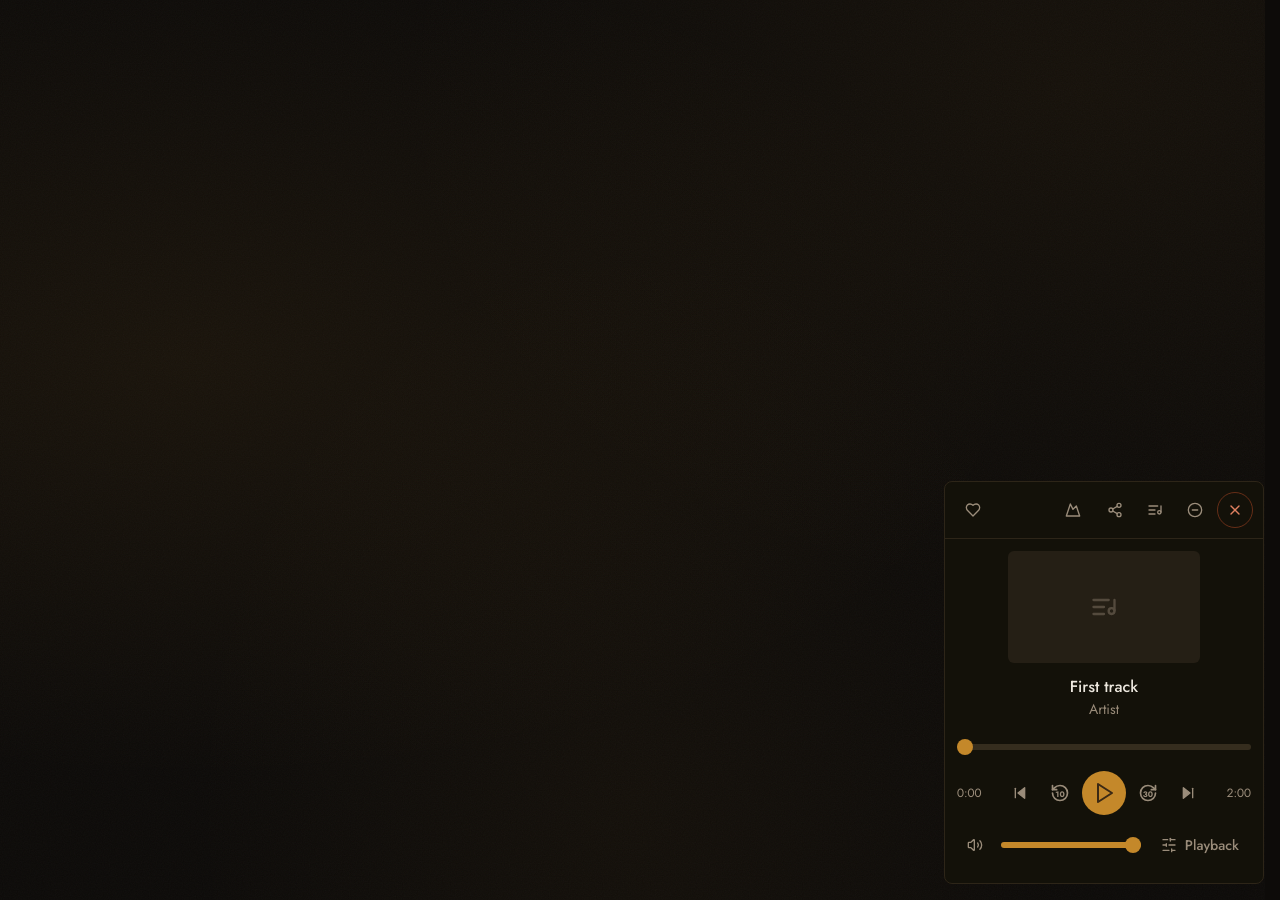
restores queue focus after closing (mobile: false)
Click the button named "Open queue": (1155, 510) top-left (1137, 492), bottom-right (1173, 528)
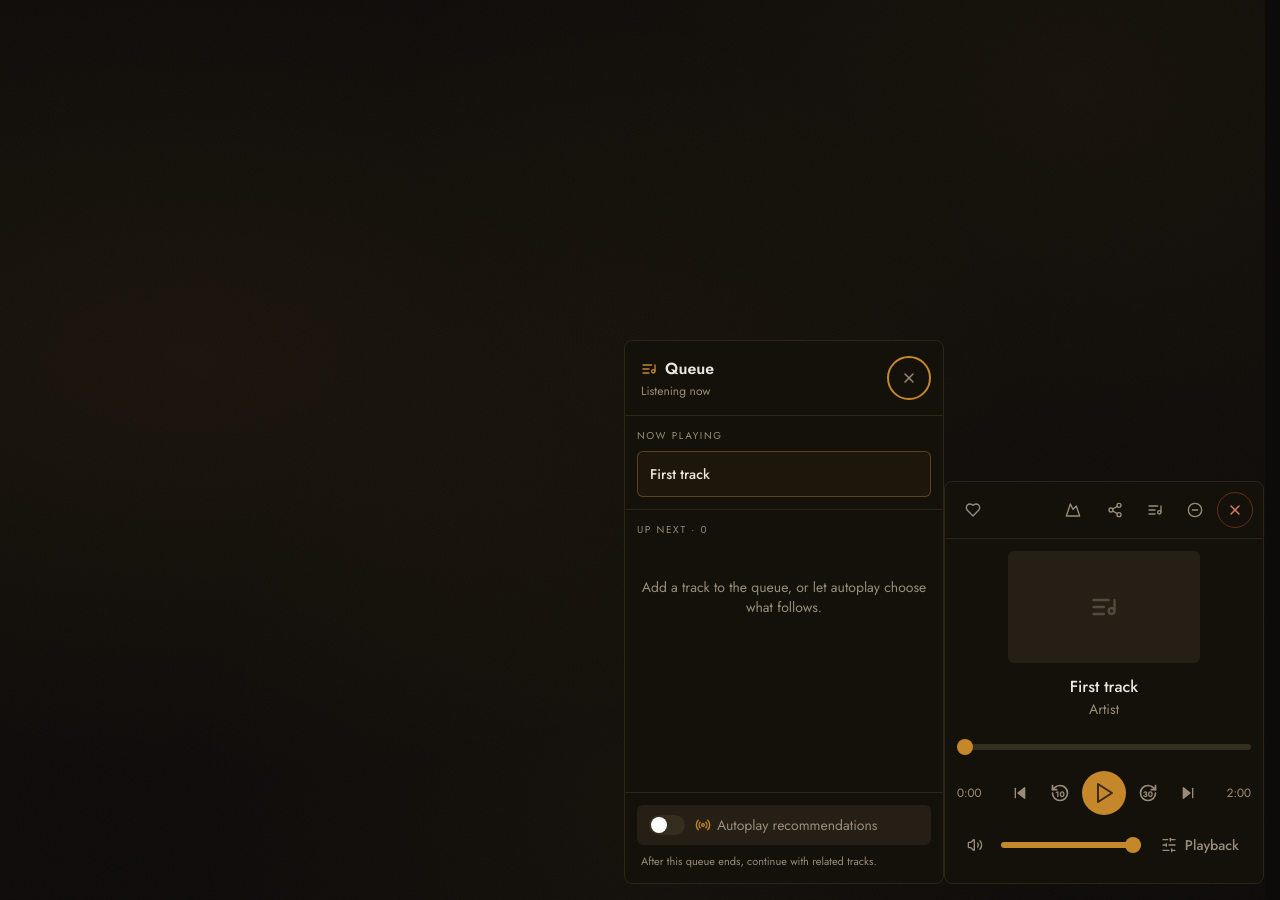
Click the button named "Close queue": (909, 378) top-left (891, 360), bottom-right (927, 396)
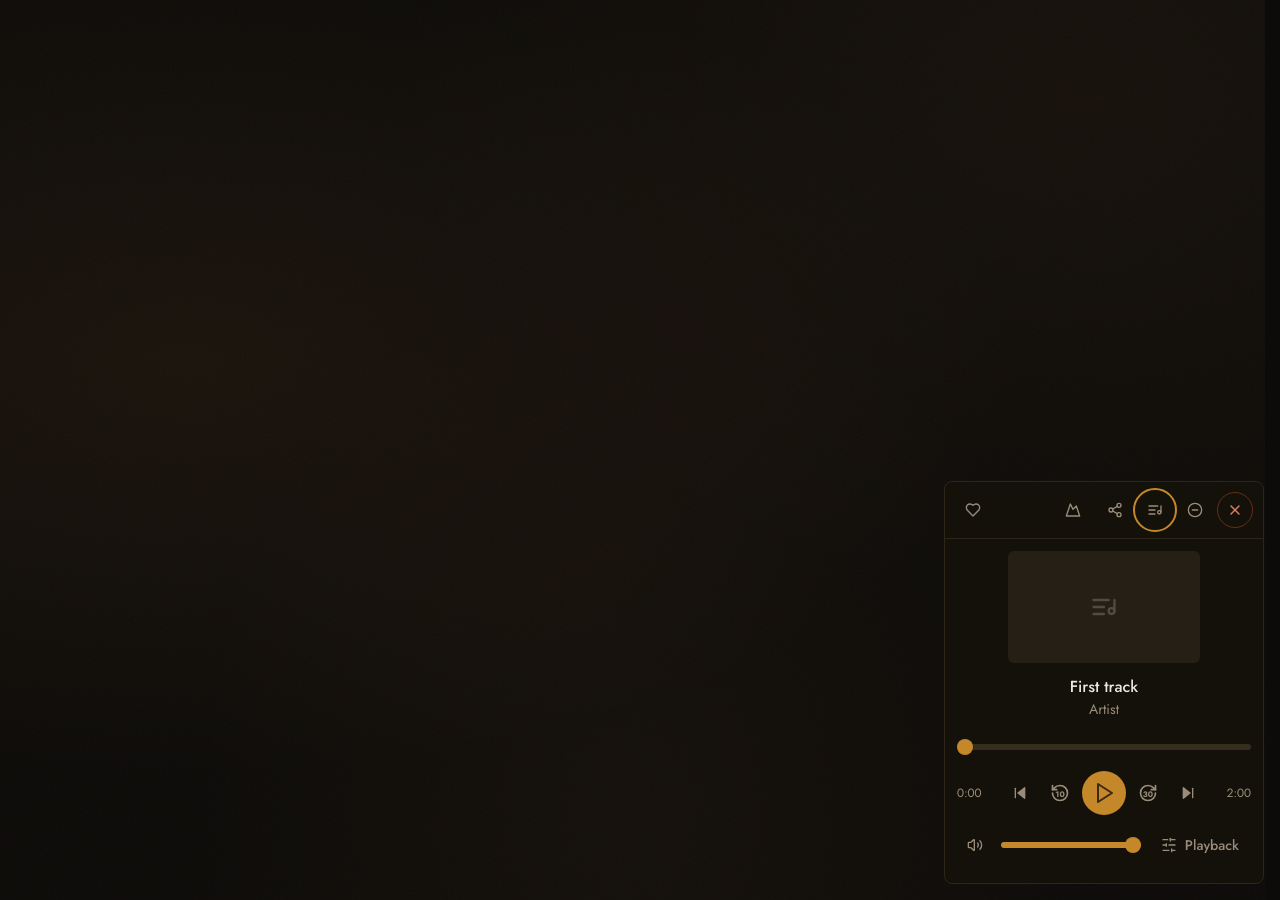
Click the button named "Open queue": (1155, 510) top-left (1137, 492), bottom-right (1173, 528)
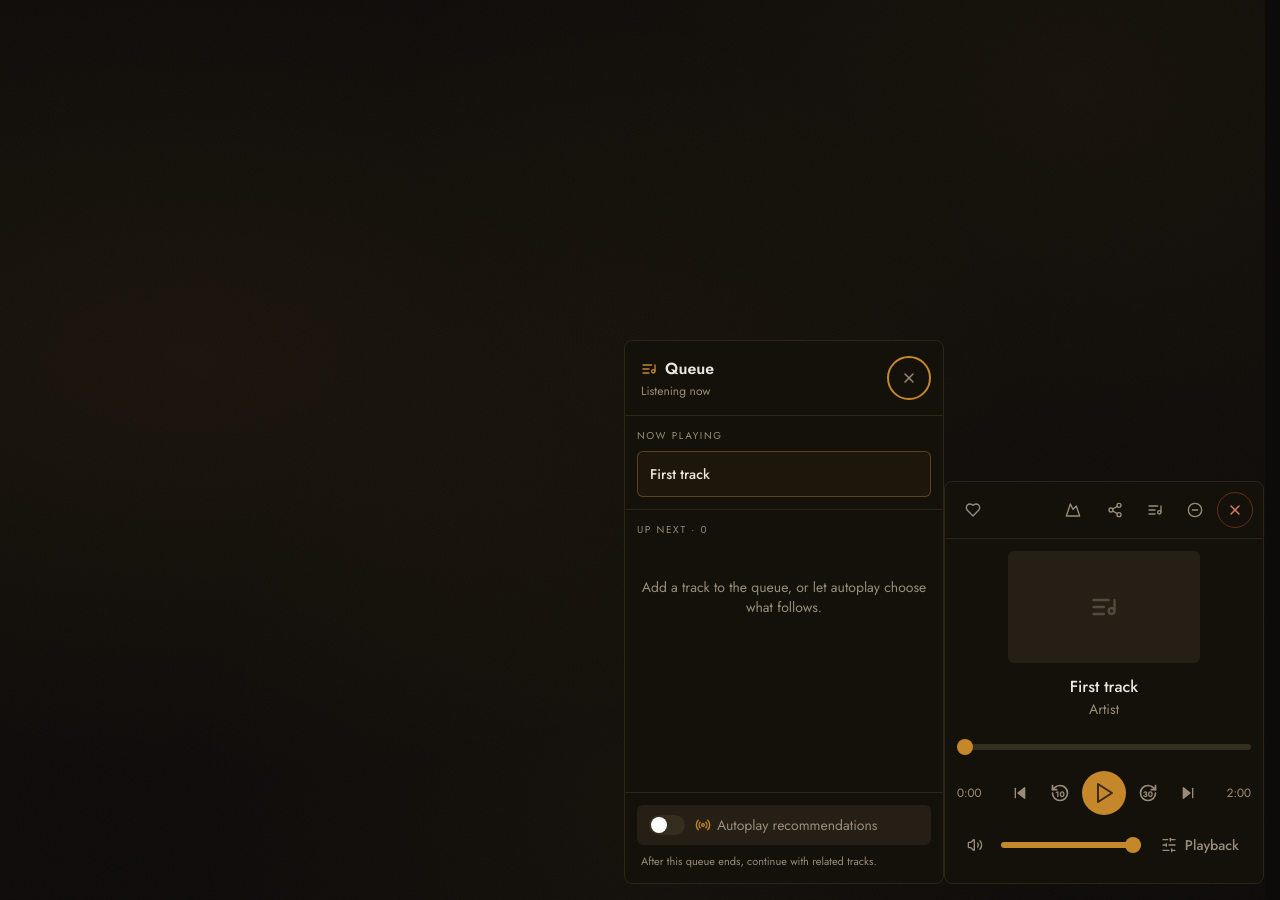
Press Escape in the button named "Close queue", box top-left (891, 360), bottom-right (927, 396)
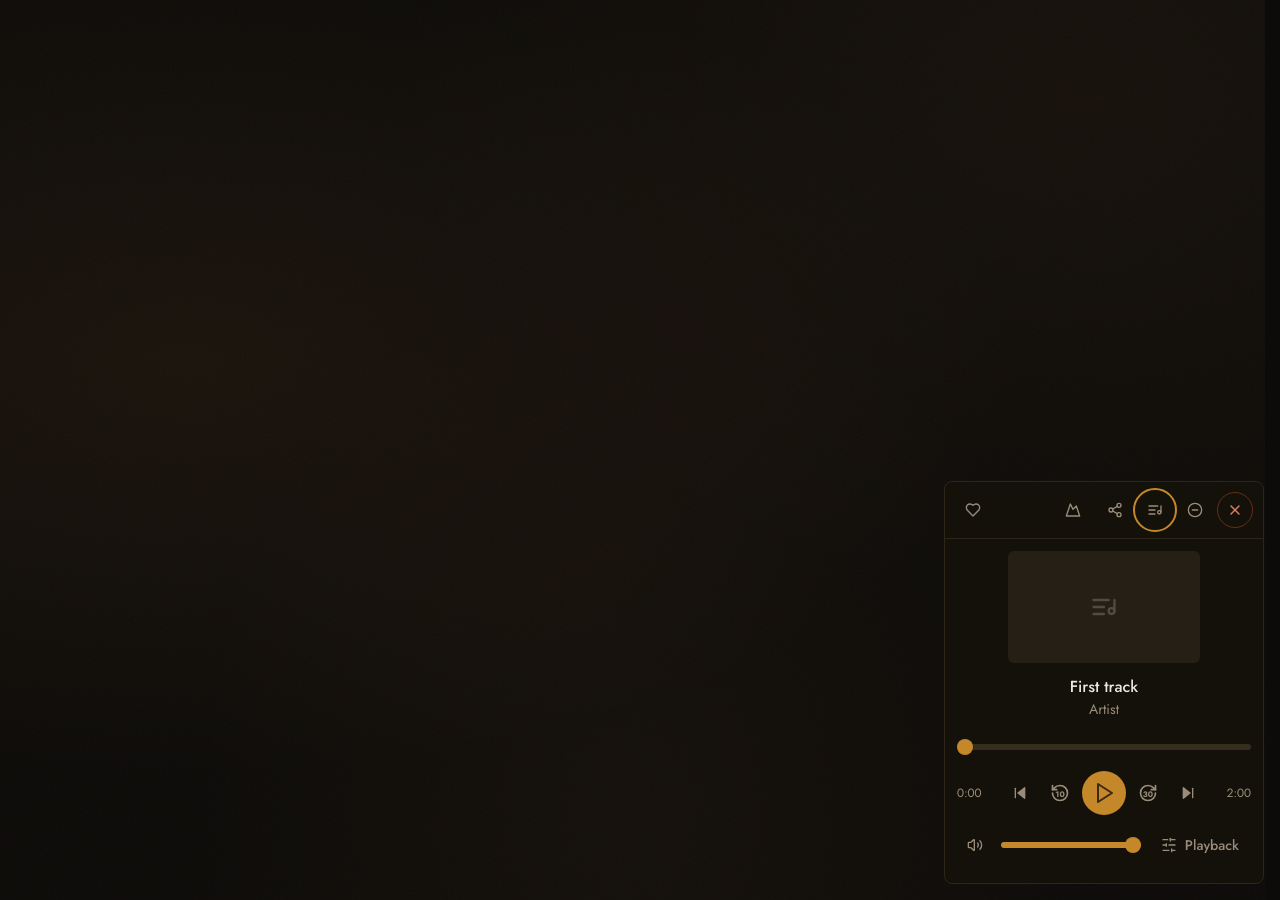
Now the dialog "Playback Queue" is gone
